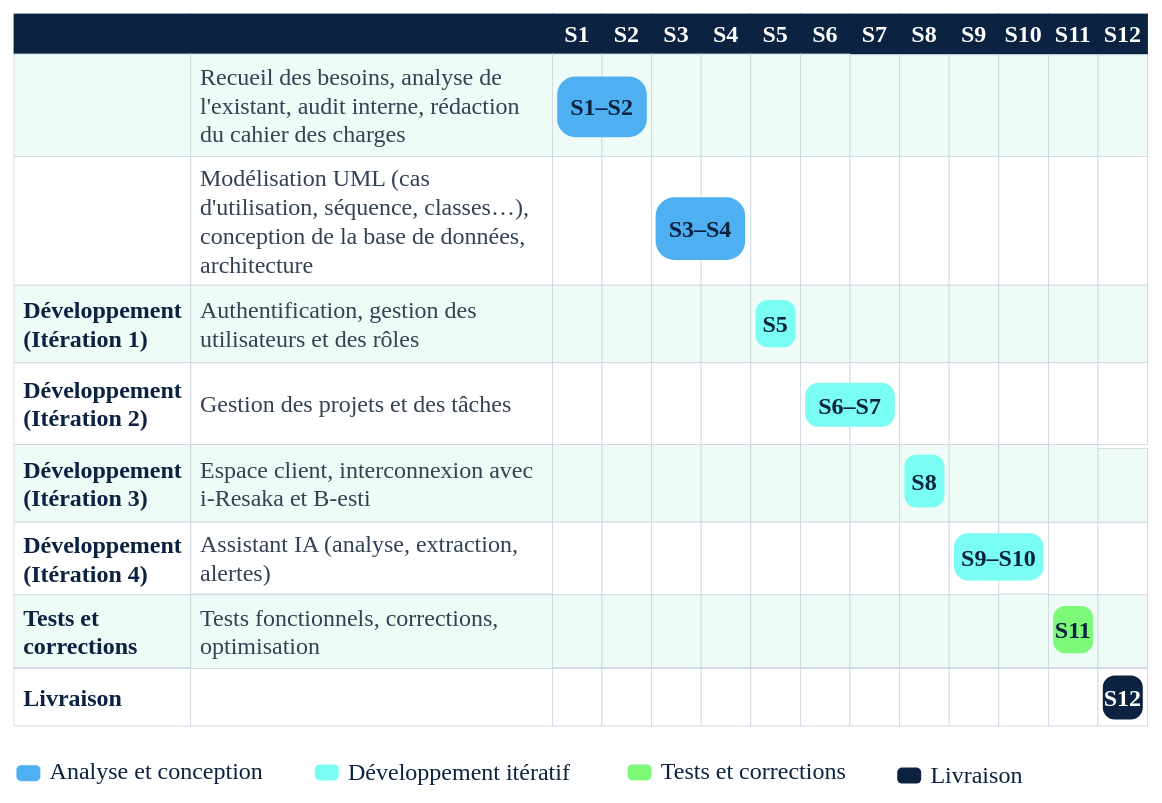
Image size: 1162x803. Some labels were removed from this diagram. Each missing label, with the box of its shape:
Activités: (190, 13, 552, 54)
Cadrage: (13, 53, 191, 156)
Conception: (13, 156, 190, 285)
Déploiement, présentation du projet: (190, 668, 552, 726)
Phase: (13, 13, 190, 54)
